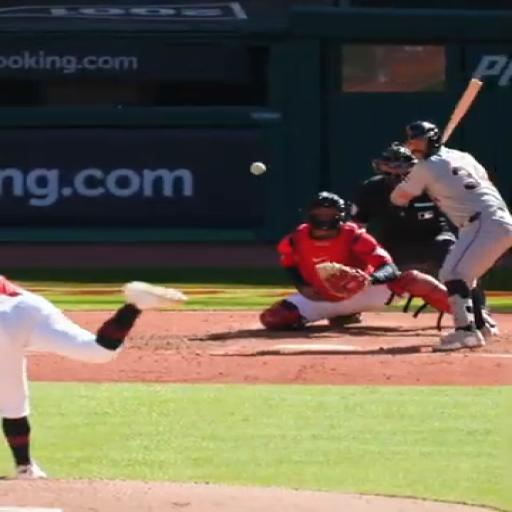bat: (443, 79, 482, 143)
